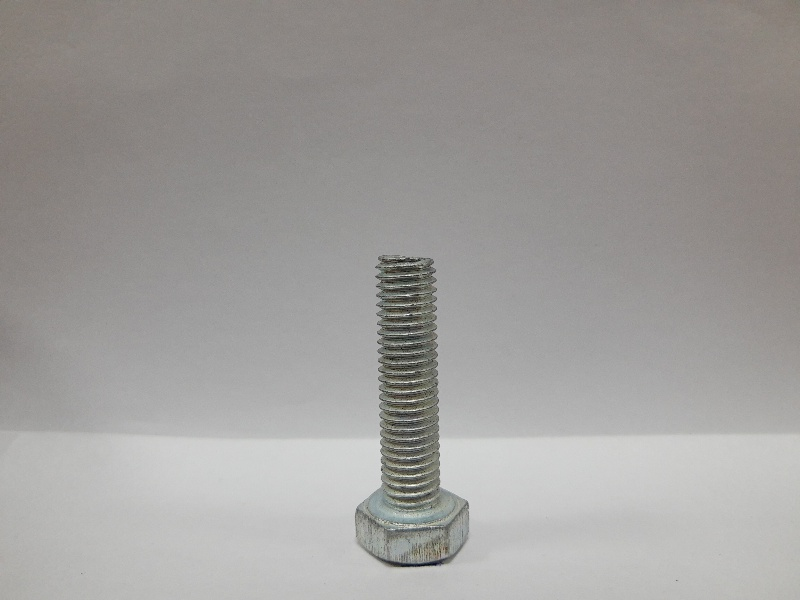pf: (352, 252, 474, 567)
